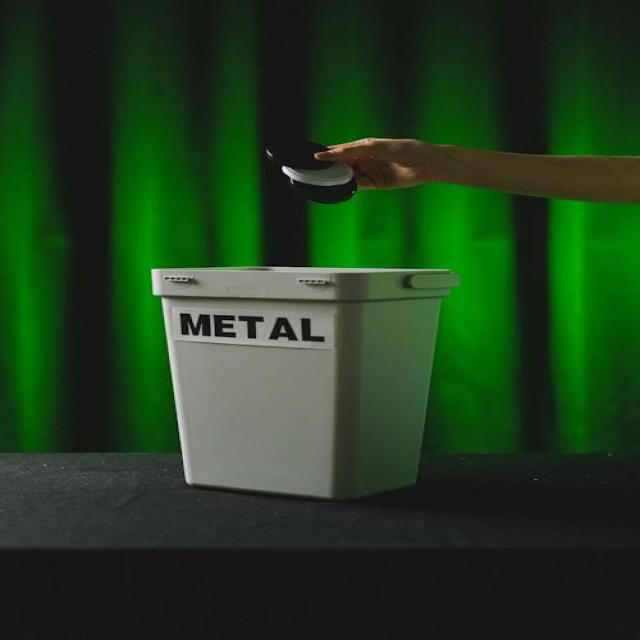plastic: (255, 129, 358, 225)
